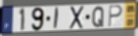1: (18, 7, 26, 33)
9: (30, 7, 46, 32)
I: (53, 7, 61, 31)
P: (108, 5, 124, 29)
Q: (91, 5, 106, 28)
X: (69, 5, 86, 31)
